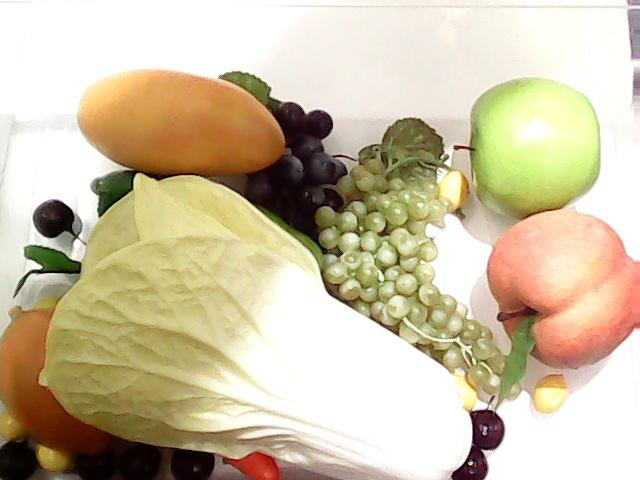apple: (456, 75, 604, 217)
carrot: (228, 449, 280, 479)
grape: (296, 162, 510, 396), (242, 96, 346, 244)
lemon: (0, 301, 124, 463)
mango: (73, 70, 303, 182)
napa cabbage: (43, 175, 464, 480)
peach: (484, 206, 640, 370)
pepper: (85, 162, 322, 298)
